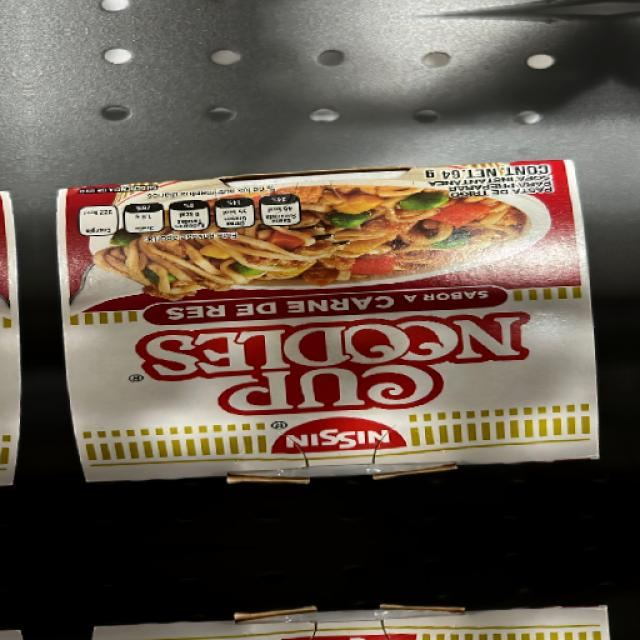nissinRes: (40, 188, 638, 470)
